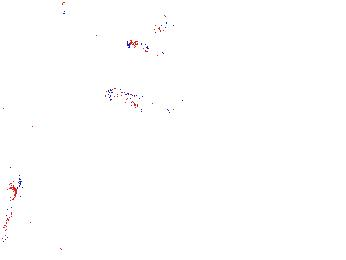X-ray fish: (1, 139, 21, 168)
red belly glassfish: (105, 84, 182, 116), (124, 37, 170, 54), (146, 17, 177, 38)
redtail glassfish: (1, 173, 24, 233)
